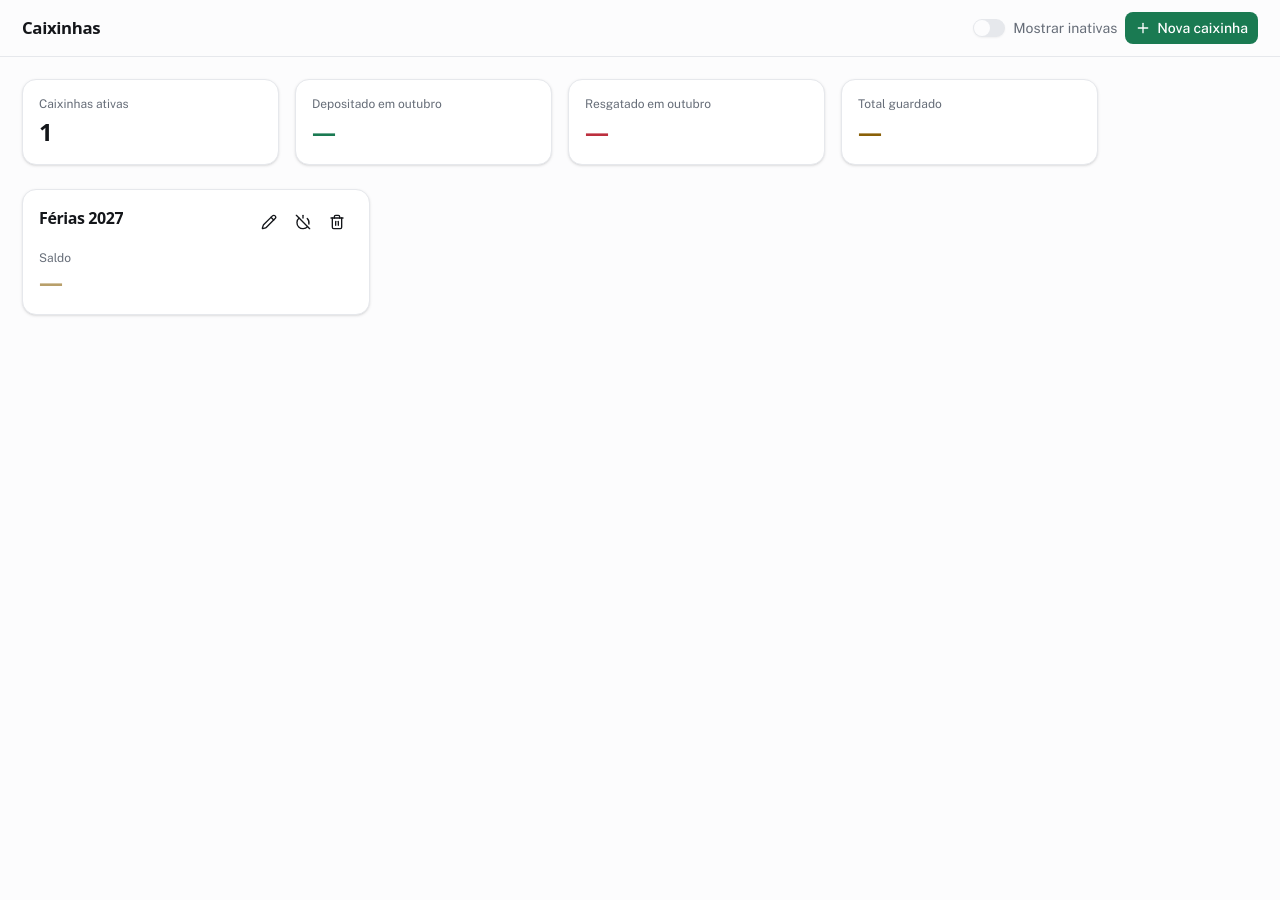
Test: CashboxesPage › leaves the goal blank as null and renders the card with no goal block
Expected: the heading "Férias 2027" is shown, [39,206,123,230]
Click the button "Nova caixinha". click: (1192, 28)
box: [1125,12,1258,44]
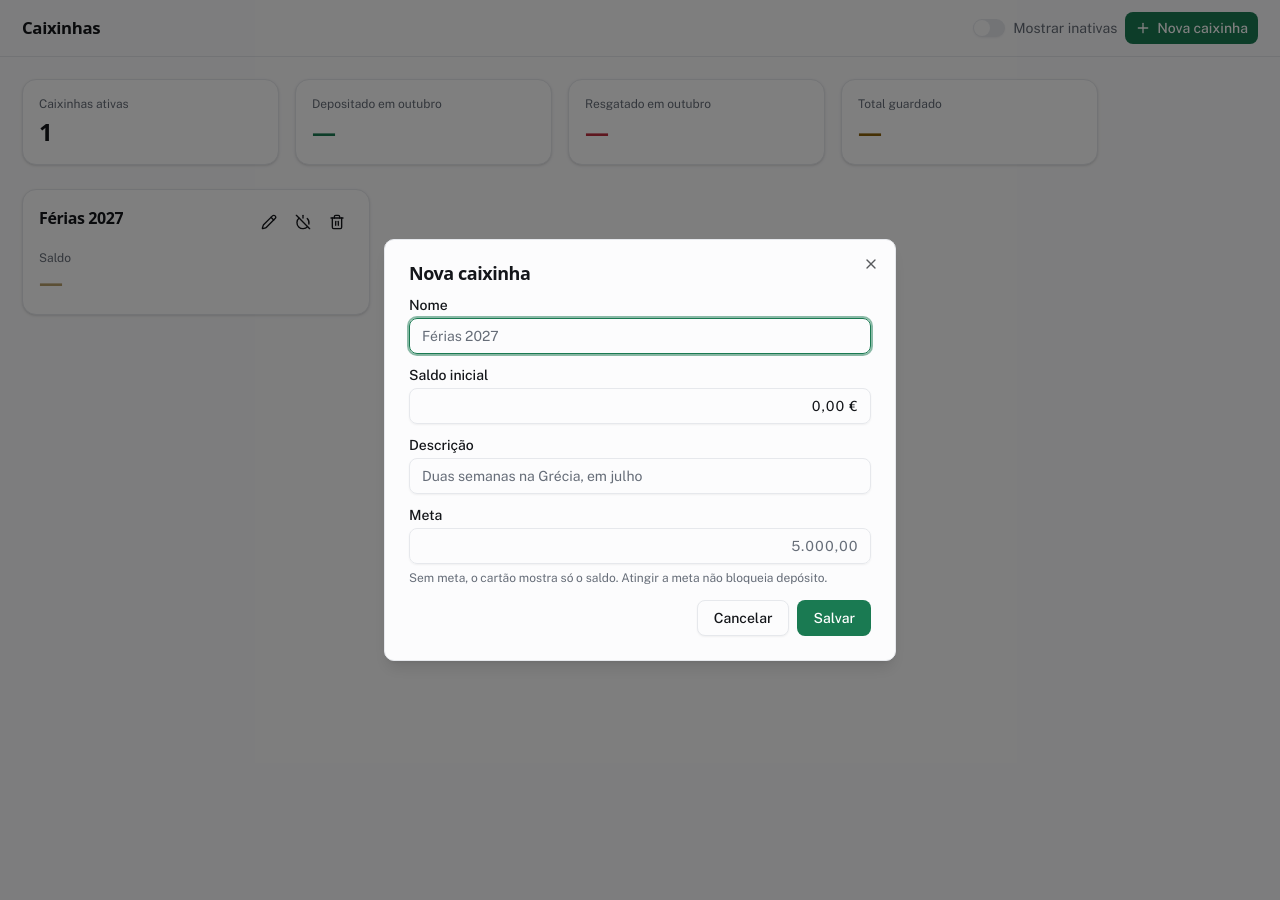
Type "Presente de aniversário" into the field labelled "Nome". click: (640, 336)
box: [409,318,871,354]
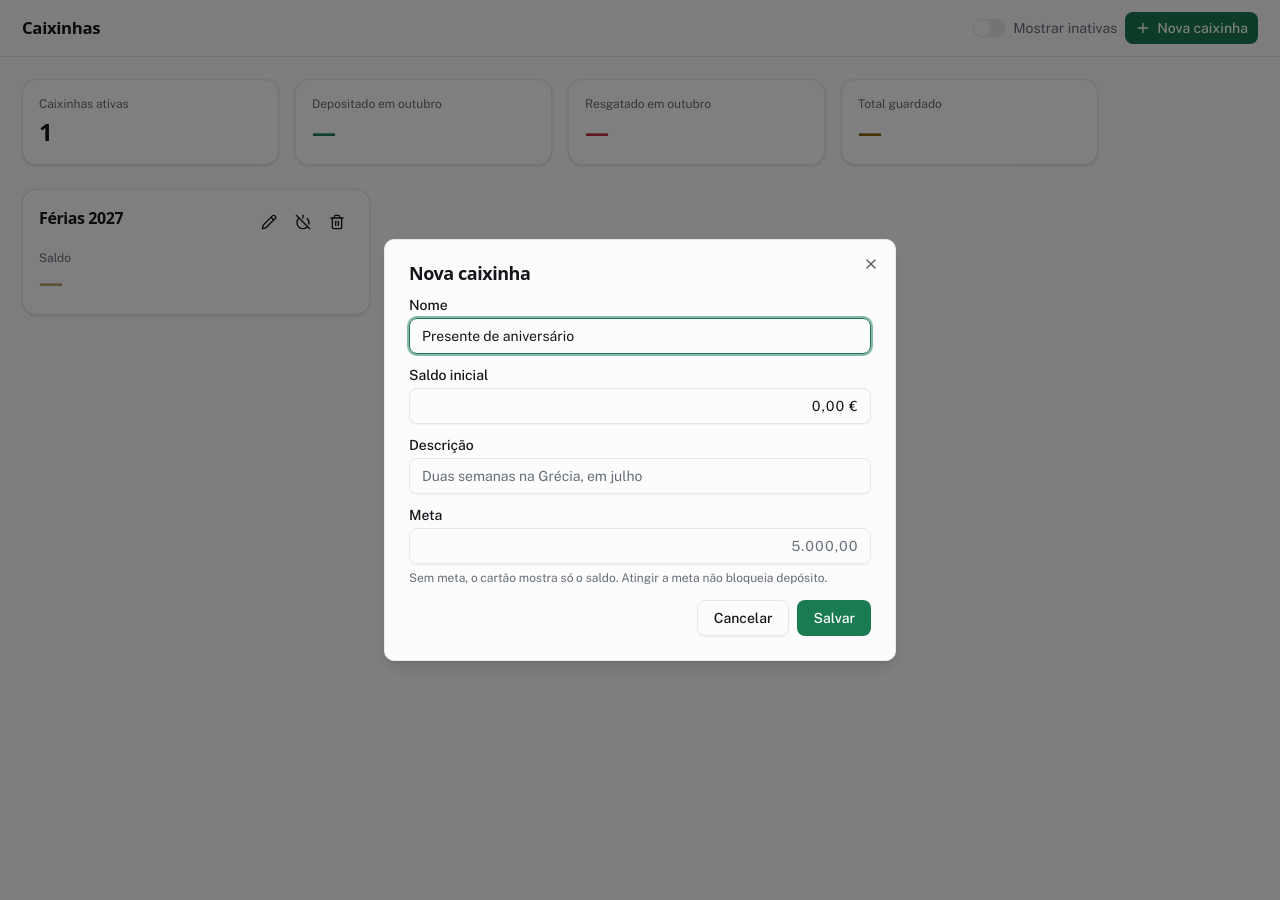
Click the button "Salvar". click: (834, 618)
box: [798,600,871,636]
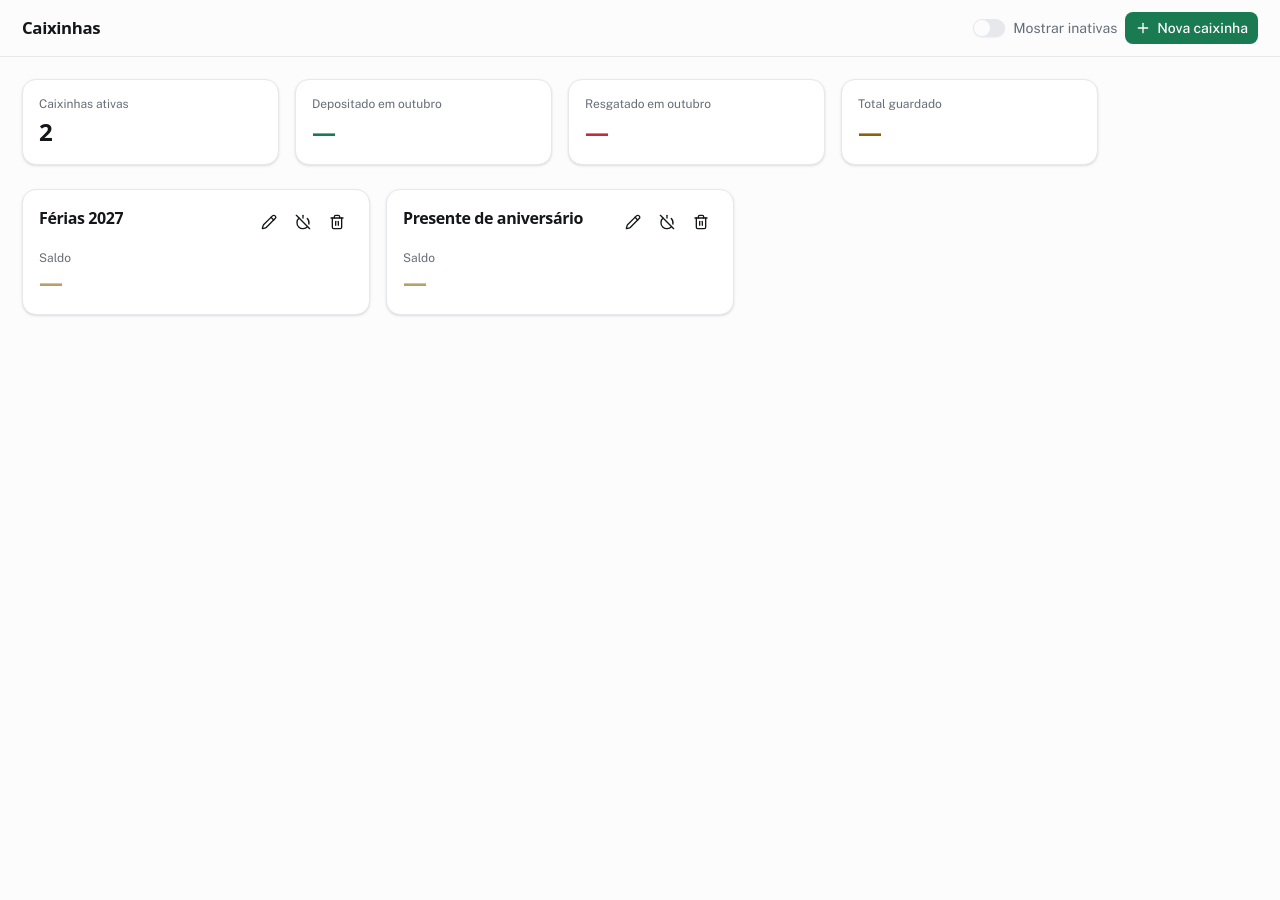
Result: the heading "Presente de aniversário" is shown at [403,206,583,230]
Result: the text "Meta" is gone
